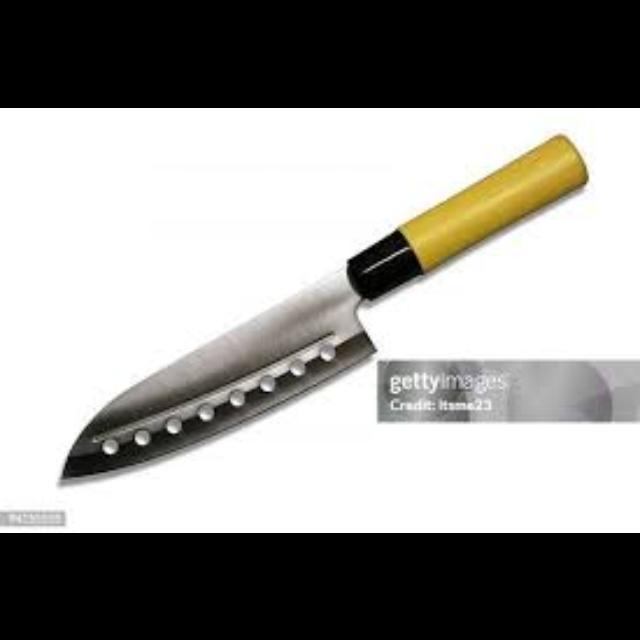Knife: (56, 130, 588, 482), (375, 356, 637, 422)
